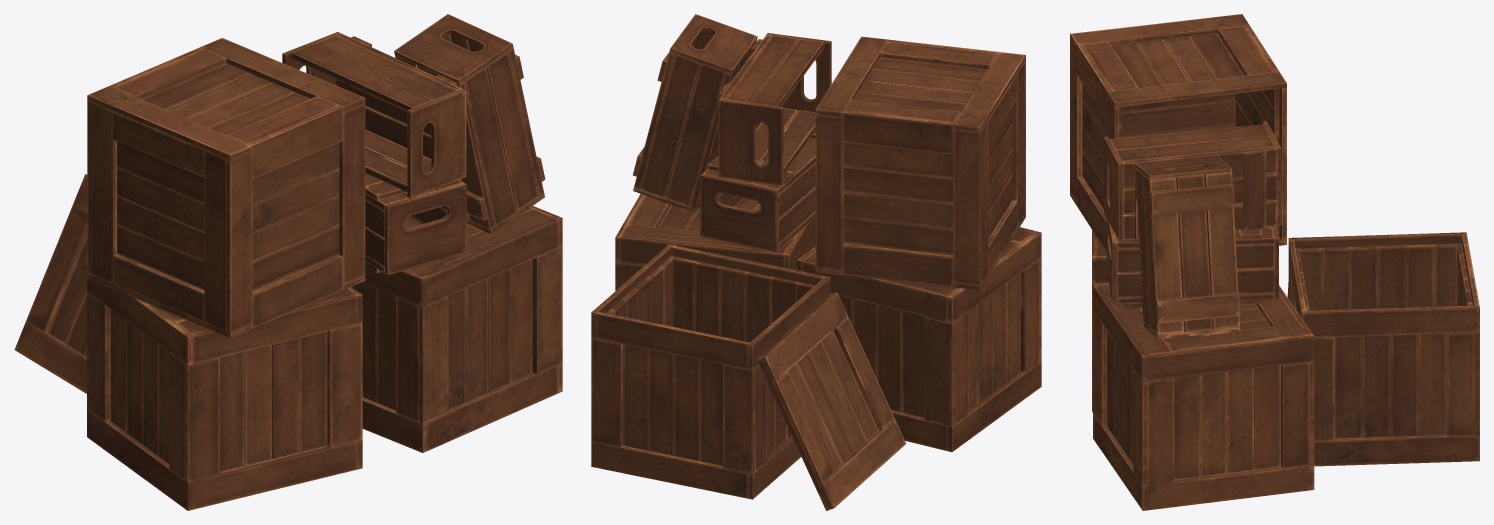
The model's file is crate_pile.glb.
3 views of the same model, side by side, from view 1: azimuth 30°, elevation 25°; view 2: azimuth 150°, elevation 25°; view 3: azimuth 270°, elevation 25° (orthographic). The views are drawn at different scales.
Parts seen in each view (by area): view 1: Object_2; view 2: Object_2; view 3: Object_2.
Boxes of the visible parts, x1=… form: Object_2: x1=14, y1=14, x2=562, y2=510; Object_2: x1=591, y1=14, x2=1041, y2=510; Object_2: x1=1070, y1=14, x2=1479, y2=510.
Size of the model in its own units: 3.39 by 2.76 by 3.24.
1 material, 1 textured.
